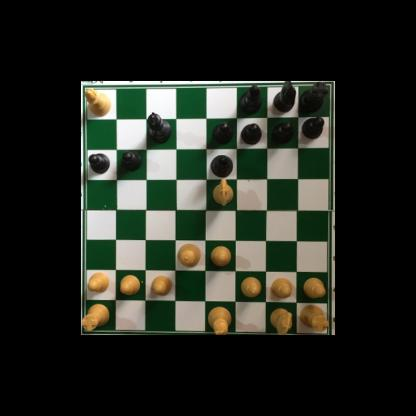black-bishop: (237, 81, 262, 116), (210, 154, 233, 178)
black-king: (145, 110, 171, 143)
black-knight: (273, 81, 297, 113)
black-pawn: (270, 121, 294, 145), (302, 116, 325, 141), (240, 122, 262, 146), (87, 152, 110, 174), (212, 122, 233, 145), (120, 151, 141, 173)
black-rook: (297, 81, 329, 114)
white-bishop: (84, 87, 113, 117)
white-king: (206, 305, 232, 335)
white-knight: (269, 306, 294, 335), (211, 175, 232, 204)
white-pawn: (86, 270, 111, 293), (150, 274, 174, 297), (301, 277, 325, 300), (239, 275, 262, 298), (119, 273, 141, 297), (210, 245, 232, 268), (270, 277, 292, 300)
white-queen: (176, 241, 201, 267)
white-rook: (81, 301, 111, 333), (297, 302, 329, 332)
